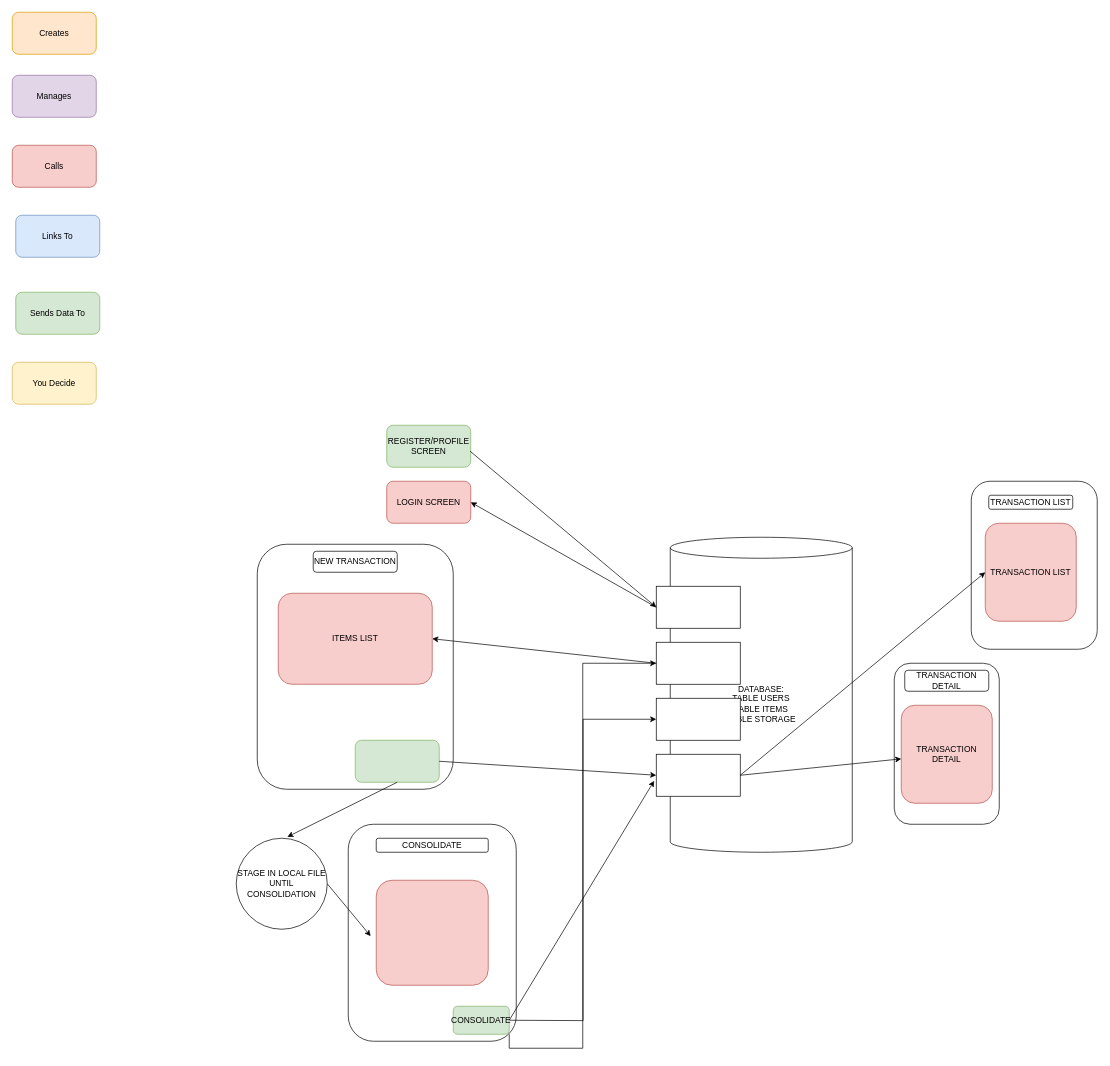
Some shapes in this 1110 by 1066 pixel diagram are drawn without their labels. The shapes that lost their labels are listed below. From the top down, each one's centre as x and y in pixels, then its label:
the point at 698,607: TABLE USERS
the point at 698,663: TABLE ITEMS
the point at 698,719: TABLE STORAGE
the point at 397,761: STAGE CHANGES
the point at 698,775: TABLE LOGS
the point at 432,932: CONSOLIDATE LIST
